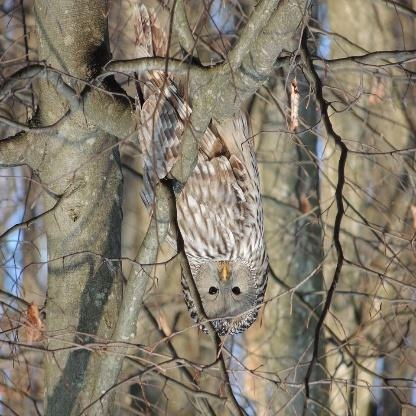Owl: (141, 83, 270, 341)
